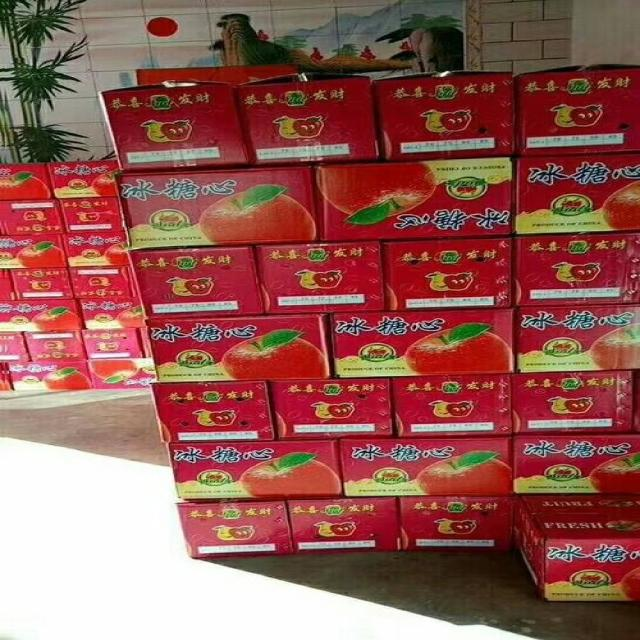box: (111, 164, 321, 250), (314, 155, 515, 243), (99, 80, 251, 171), (513, 494, 640, 601), (332, 306, 516, 378), (237, 72, 379, 165), (372, 70, 516, 161), (146, 314, 330, 382), (515, 64, 640, 157), (166, 440, 340, 501), (513, 152, 640, 234), (340, 436, 513, 496), (128, 245, 264, 319), (381, 235, 513, 310), (255, 242, 387, 315), (515, 231, 640, 305), (515, 303, 640, 372), (390, 373, 513, 438), (512, 431, 640, 493), (150, 381, 275, 443), (270, 378, 392, 440), (513, 370, 634, 432), (177, 499, 294, 559), (288, 497, 402, 554), (398, 495, 516, 550), (47, 160, 119, 199), (0, 299, 86, 331), (6, 360, 91, 390), (61, 231, 129, 266), (68, 265, 140, 298), (60, 197, 124, 234), (0, 234, 67, 269), (0, 199, 64, 235), (87, 358, 157, 389), (9, 267, 73, 300), (0, 162, 55, 200), (22, 329, 87, 361), (79, 298, 146, 329), (82, 327, 142, 358)
